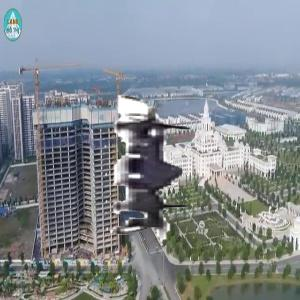drone: (52, 85, 235, 268)
